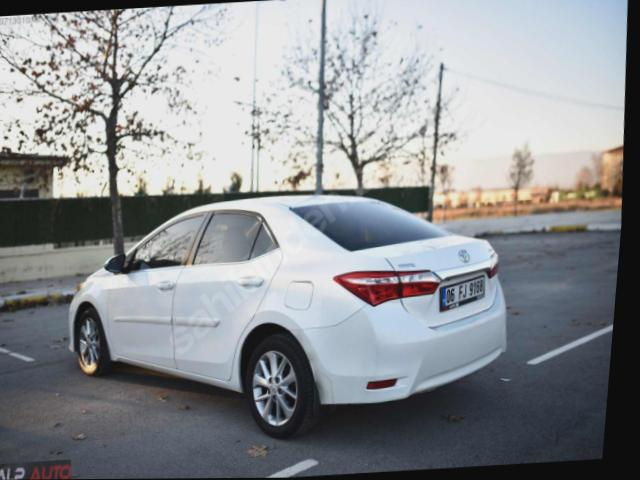plaka: (439, 276, 484, 311)
